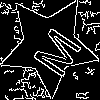M: (24, 20, 83, 80)
